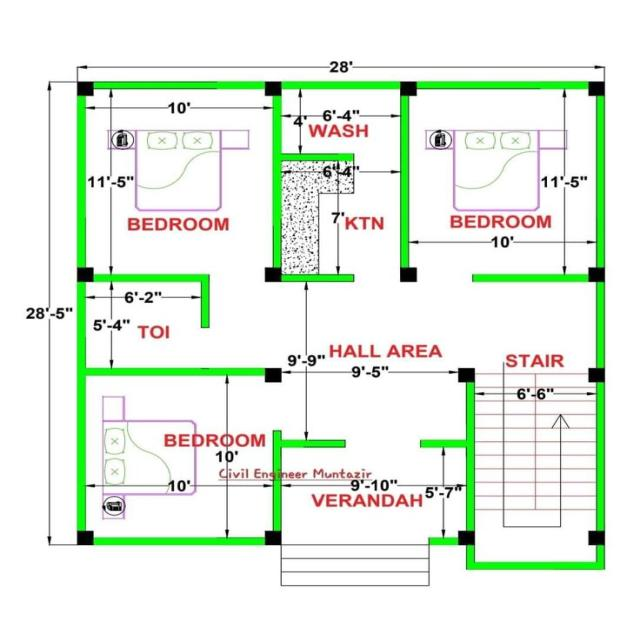Blueprint: (64, 73, 614, 580)
column: (71, 78, 99, 102), (584, 262, 609, 286), (72, 264, 98, 286), (260, 528, 287, 549), (261, 365, 286, 387), (260, 264, 287, 284), (396, 79, 420, 101), (74, 529, 98, 550), (262, 79, 284, 101), (584, 78, 607, 99), (455, 364, 478, 385), (585, 528, 608, 549), (454, 528, 478, 548), (586, 366, 611, 385), (396, 265, 419, 285)
wall: (75, 280, 88, 532), (593, 93, 607, 270), (82, 365, 267, 378), (398, 94, 411, 270), (76, 94, 88, 272), (91, 536, 268, 547), (91, 80, 266, 91), (414, 80, 591, 90), (272, 94, 282, 270), (595, 380, 606, 533), (465, 380, 476, 532), (470, 560, 606, 571), (471, 272, 591, 284), (270, 428, 282, 532), (279, 80, 402, 90), (594, 279, 607, 370), (92, 273, 204, 283), (278, 152, 357, 162), (279, 438, 348, 449), (280, 273, 355, 283), (199, 273, 211, 329), (418, 438, 468, 449), (426, 536, 461, 547), (464, 544, 477, 572), (596, 543, 606, 571)
